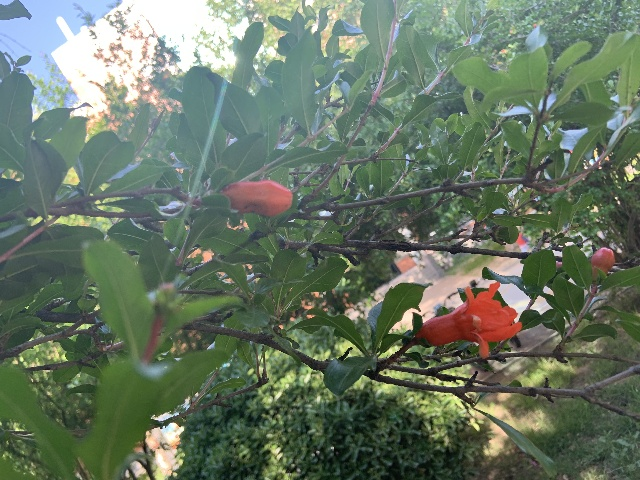bud: (220, 179, 292, 217), (590, 247, 614, 276)
flower: (416, 279, 522, 359)
